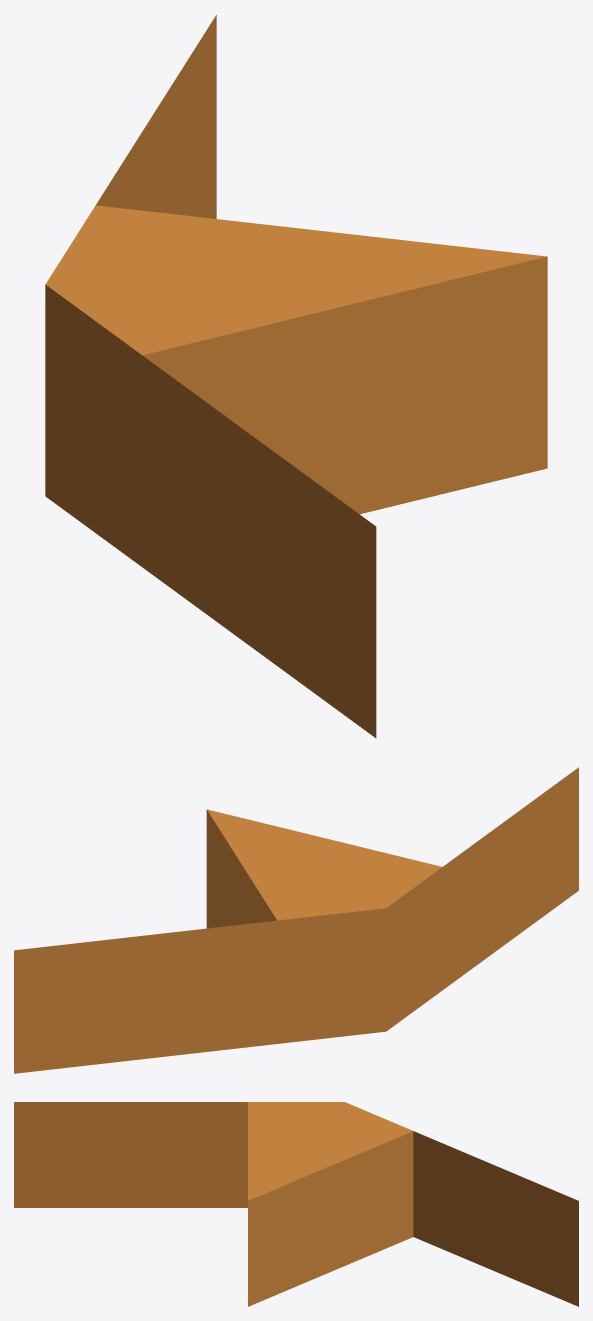
3 views of the same model, one above another, from view 1: azimuth 30°, elevation 25°; view 2: azimuth 150°, elevation 25°; view 3: azimuth 270°, elevation 25° (orthographic). The views are drawn at different scales.
Visible parts, largest first — view 1: CORNER-A-13-p1; view 2: CORNER-A-13-p1; view 3: CORNER-A-13-p1.
Boxes of the visible parts, x1=… form: CORNER-A-13-p1: x1=45, y1=15, x2=547, y2=738; CORNER-A-13-p1: x1=14, y1=767, x2=578, y2=1073; CORNER-A-13-p1: x1=14, y1=1102, x2=578, y2=1306.
Bounding box in the file's own units: 0.09 × 0.045 × 0.2174.
